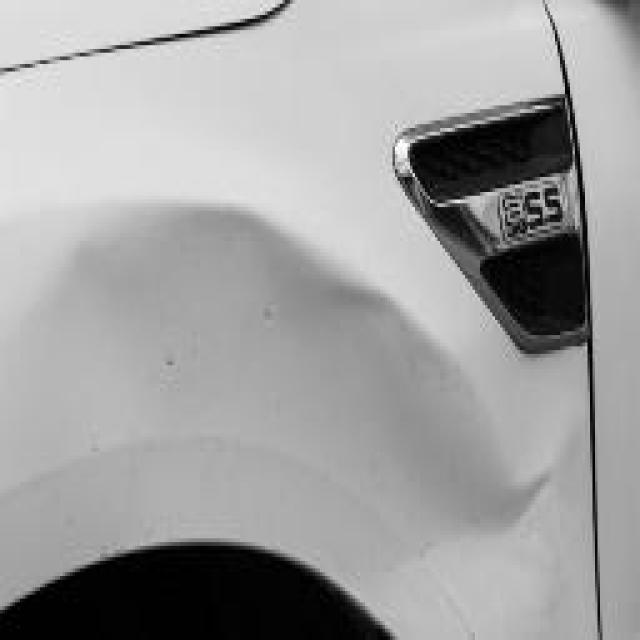Fender: (0, 177, 585, 640)
